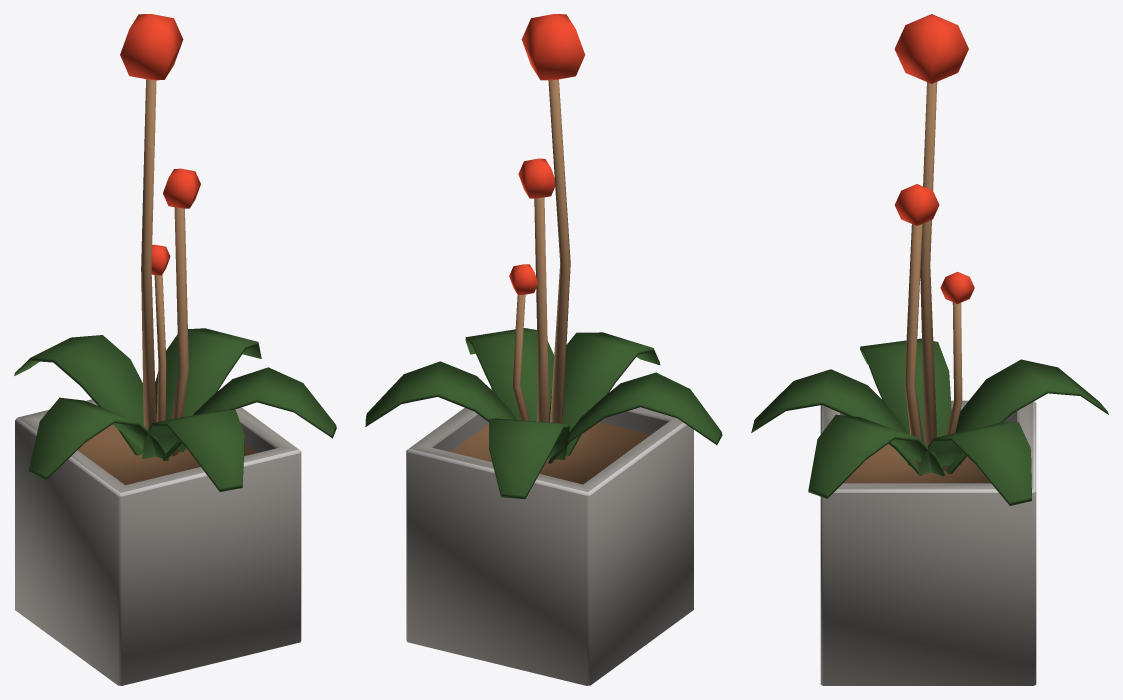
File: PlantPot_04.glb
3 views of the same model, side by side, from view 1: azimuth 30°, elevation 25°; view 2: azimuth 150°, elevation 25°; view 3: azimuth 270°, elevation 25° (orthographic).
Parts seen in each view (by area): view 1: PlantPot_04; view 2: PlantPot_04; view 3: PlantPot_04.
Boxes of the visible parts, x1=… form: PlantPot_04: x1=14, y1=14, x2=336, y2=685; PlantPot_04: x1=365, y1=14, x2=722, y2=685; PlantPot_04: x1=751, y1=14, x2=1108, y2=685.
Size of what is drawn, in the model's own units: 0.8177 by 1.64 by 0.8529.
Materials: 1 (1 with a texture image).
